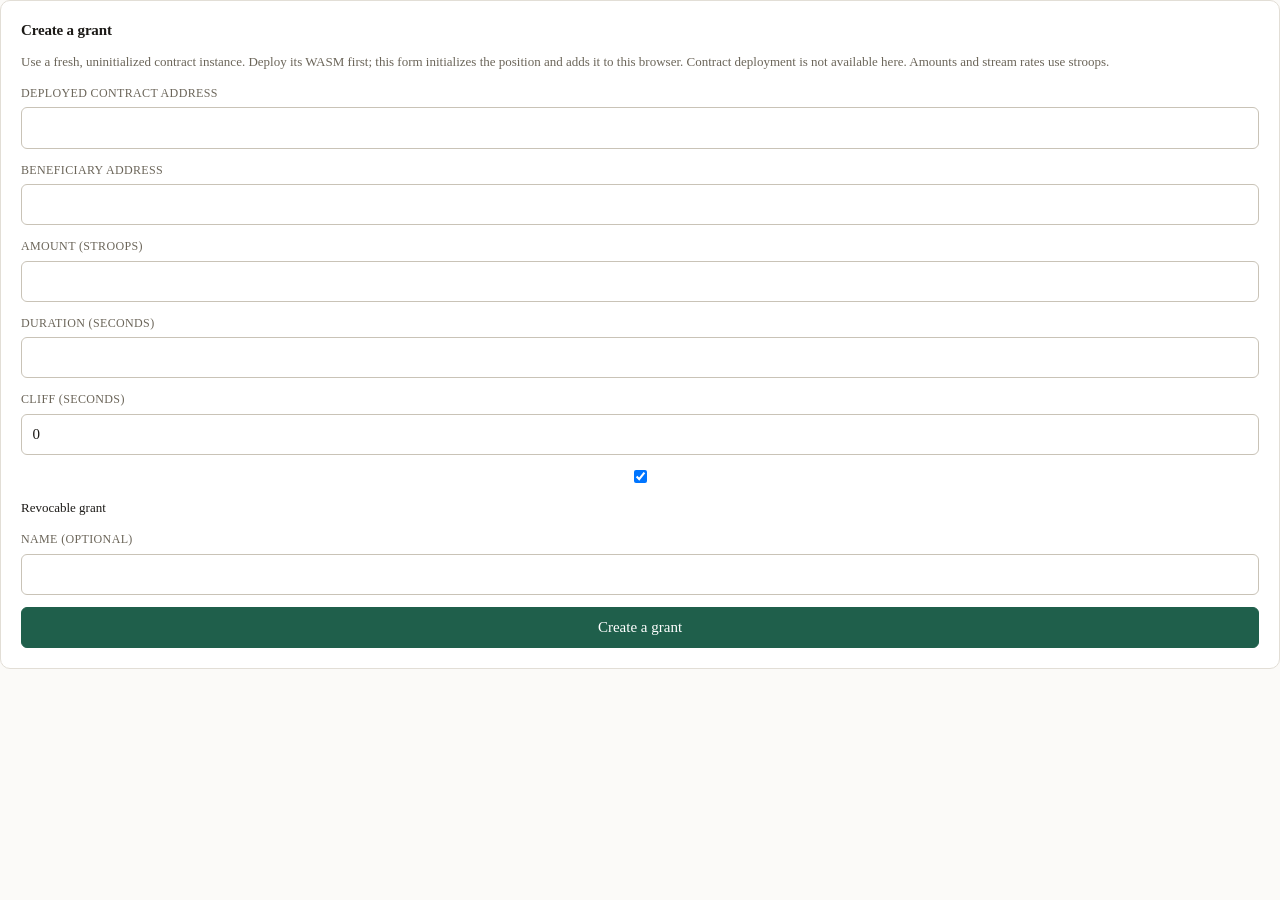
Test: CreatePositionForm validation & inline errors (#293) › displays inline errors for empty required fields on submit (vesting)
The width and height of the screenshot is (1280, 900).
// Clear cliff which defaults to "0" to test empty field validation
Clear the field labelled "Cliff (seconds)" at [640, 434], box 21,414 -> 1259,455
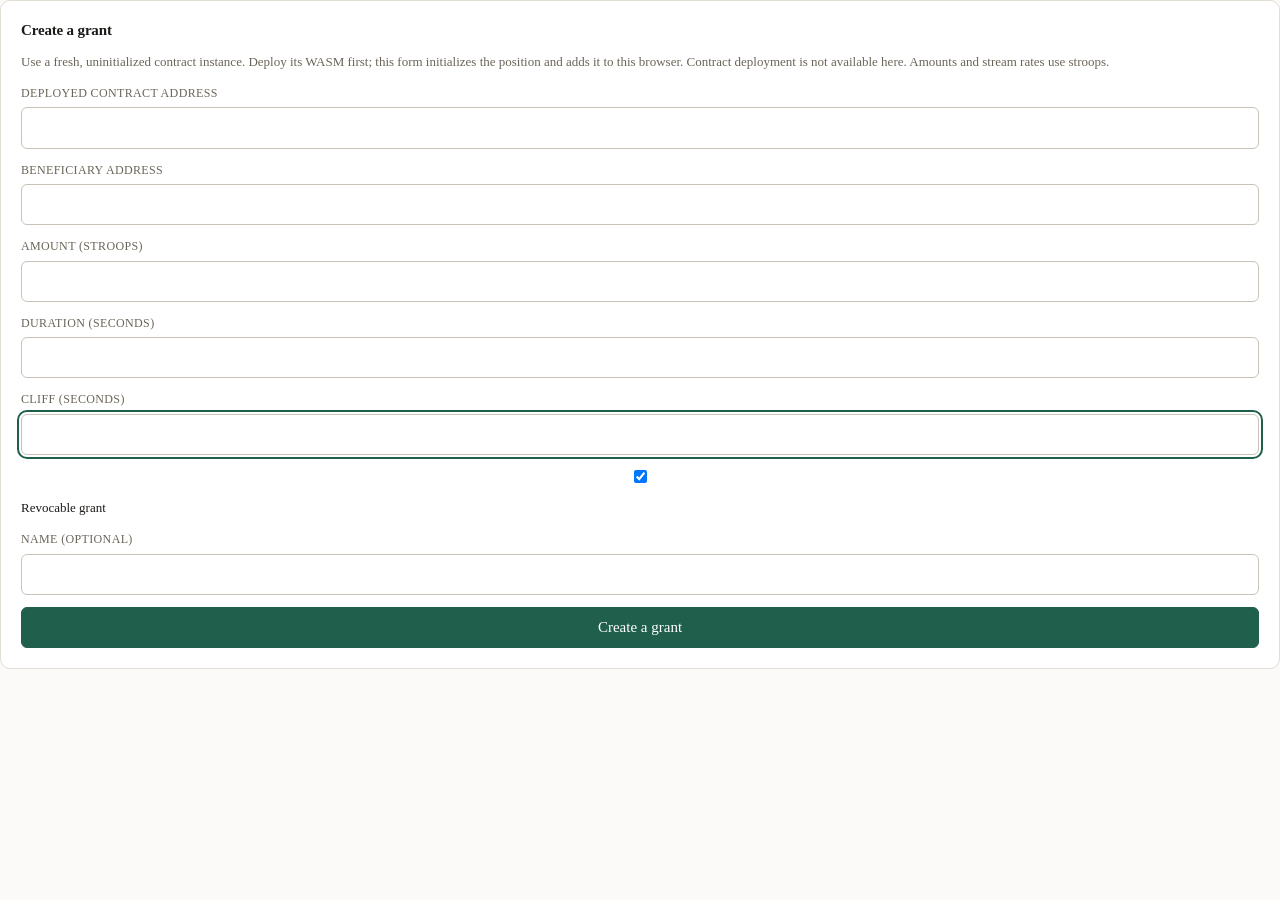
Click the button "Create a grant" at [640, 628], box 21,607 -> 1259,648
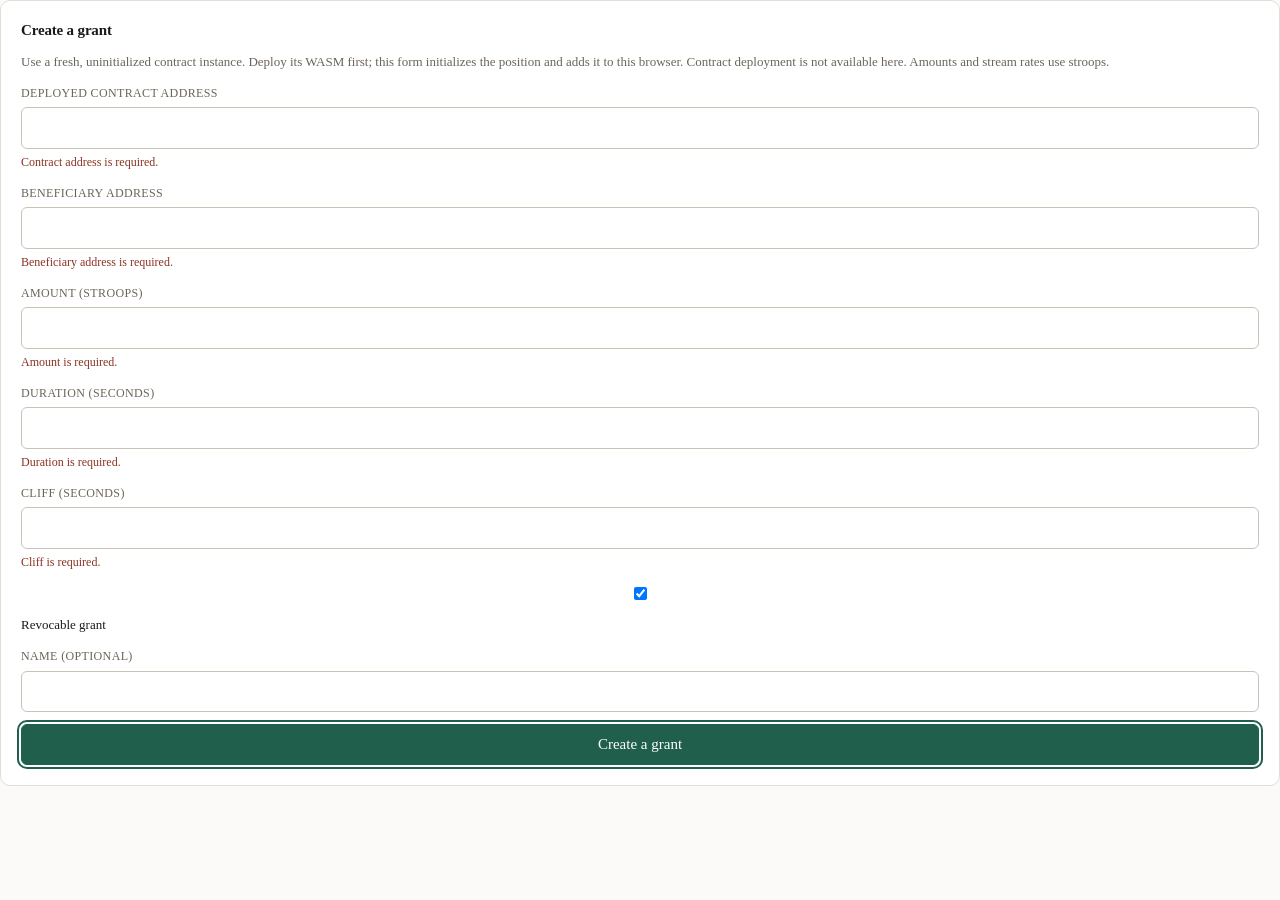
Result: the text "Contract address is required." is shown at 21,155 -> 158,169
Result: the text "Beneficiary address is required." is shown at 21,255 -> 173,269
Result: the text "Amount is required." is shown at 21,355 -> 117,369
